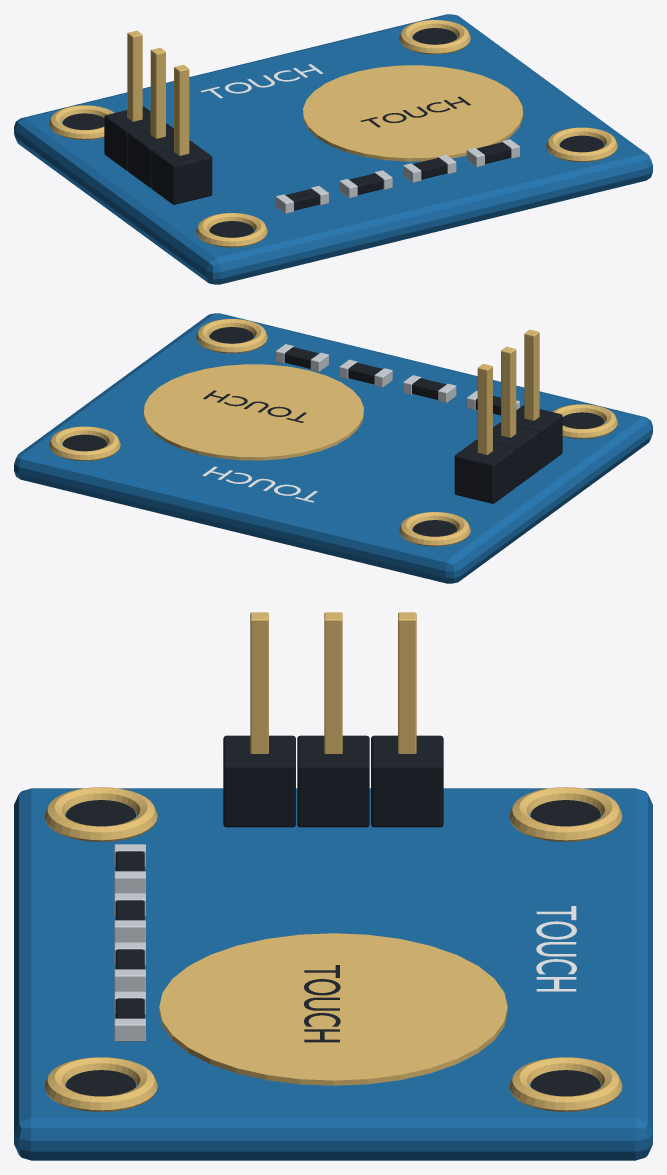
File: touch-sensor.glb
3 views of the same model, one above another, from view 1: azimuth 30°, elevation 25°; view 2: azimuth 150°, elevation 25°; view 3: azimuth 270°, elevation 25° (orthographic). The views are drawn at different scales.
Visible parts, largest first — view 1: Static body • blue, Static body • gold, Static body • black, Static body • silver, Static body • white; view 2: Static body • blue, Static body • gold, Static body • black, Static body • silver, Static body • white; view 3: Static body • blue, Static body • gold, Static body • black, Static body • silver, Static body • white.
Boxes of the visible parts, x1,y1,x2,y2 form: Static body • blue: [14, 14, 652, 284]; Static body • gold: [49, 20, 617, 247]; Static body • black: [63, 28, 603, 237]; Static body • silver: [275, 139, 519, 213]; Static body • white: [200, 64, 323, 98]; Static body • blue: [14, 313, 652, 583]; Static body • gold: [49, 319, 617, 546]; Static body • black: [63, 327, 603, 536]; Static body • silver: [275, 344, 519, 410]; Static body • white: [202, 466, 317, 502]; Static body • blue: [14, 788, 652, 1160]; Static body • gold: [44, 612, 622, 1111]; Static body • black: [66, 735, 600, 1096]; Static body • silver: [114, 844, 145, 1041]; Static body • white: [536, 906, 576, 991].
Size of the model in its own units: 28 by 9.3 by 22.
